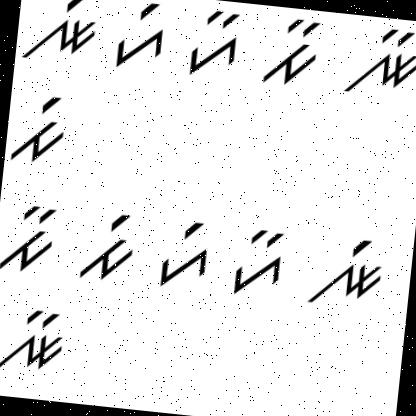han: (227, 224, 294, 300), (185, 4, 246, 82)
hang: (154, 214, 214, 294), (107, 0, 171, 72)
mban: (262, 12, 328, 94), (0, 198, 60, 277)
mbang: (4, 88, 72, 172), (74, 206, 142, 286)
ndan: (341, 19, 416, 103), (0, 300, 71, 383)
ndang: (308, 231, 390, 315), (19, 0, 102, 67)
